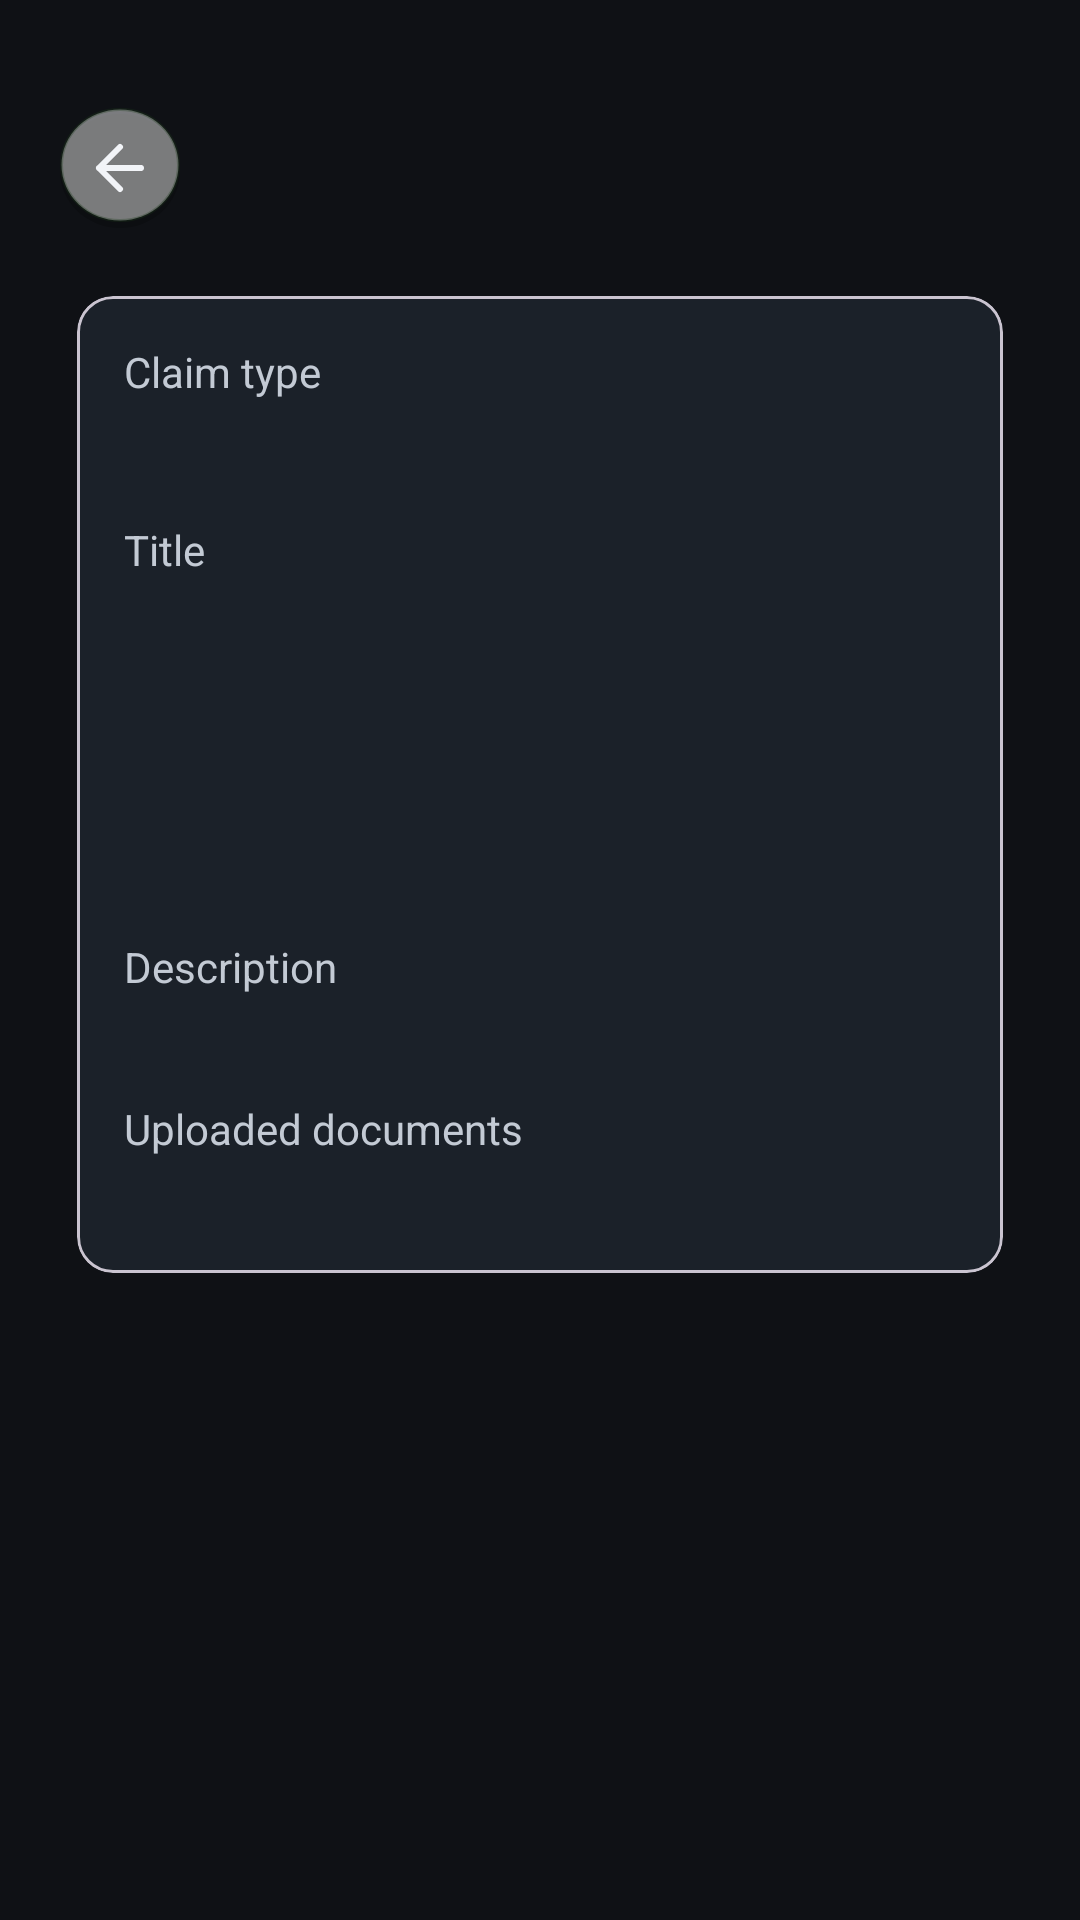

Named icons in this screenshot (1080 x 1920) and their bounding boxes, (x1, y1, x2, y2):
Back: (61, 109, 179, 221)
